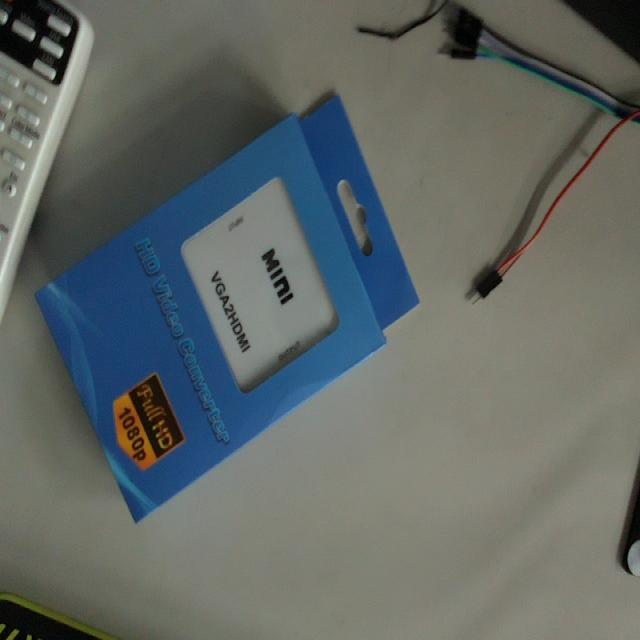remote: (40, 93, 428, 532)
